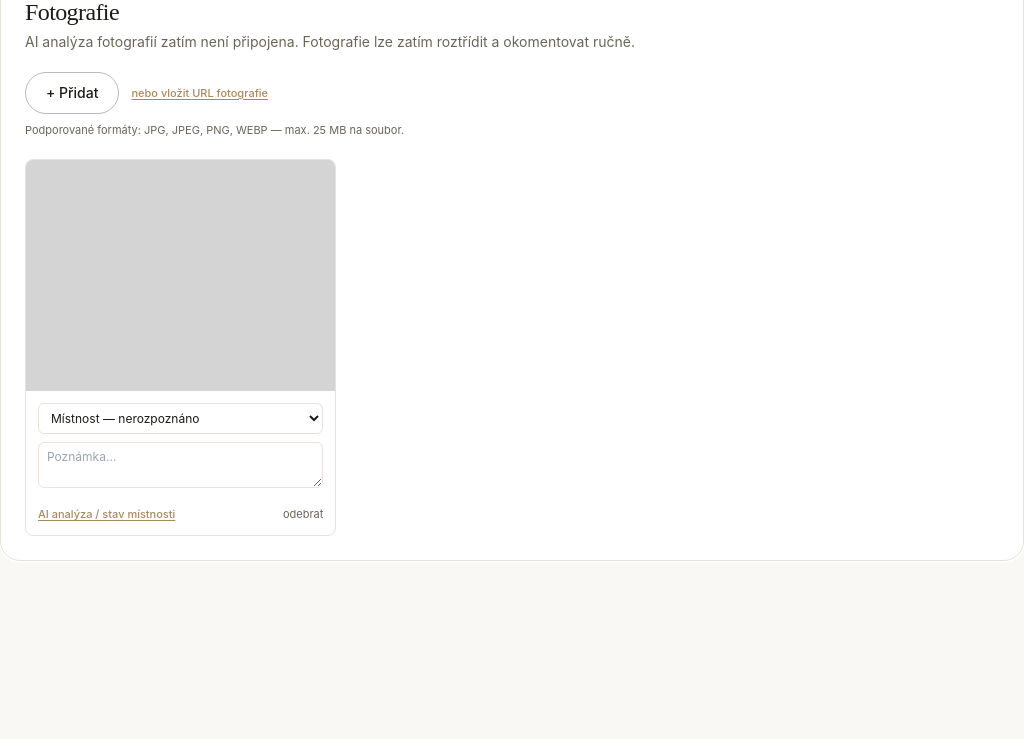
PhotosGallery — 'Vygenerovat vizualizaci' only shown when Gemini is actually connected › shows the generate button once the provider reports CONNECTED
This screenshot has width=1024, height=739.
Click the button "AI analýza / stav místnosti" at x=107, y=515, box [38, 506, 175, 523]
(page scrolled)
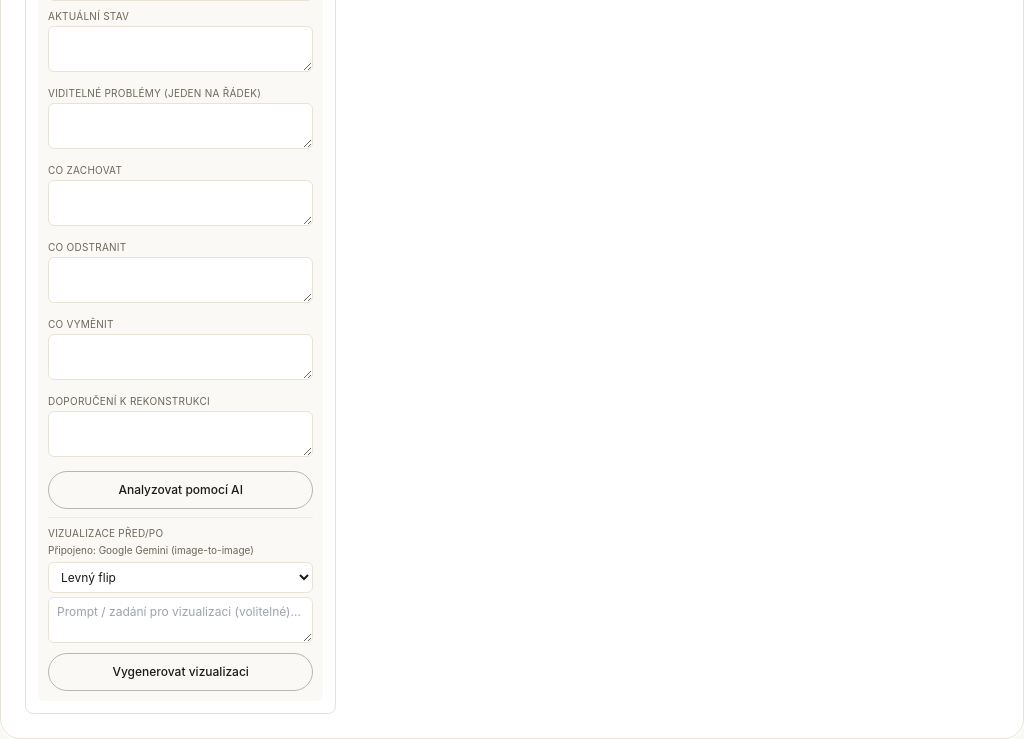
Now the button with test id "generate-visualization-photo-1" is shown, box [48, 653, 313, 691]
